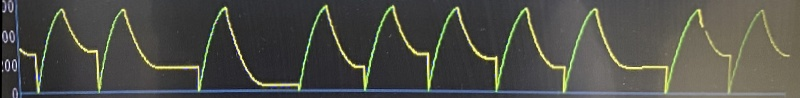leakage: (9, 0, 800, 98)
